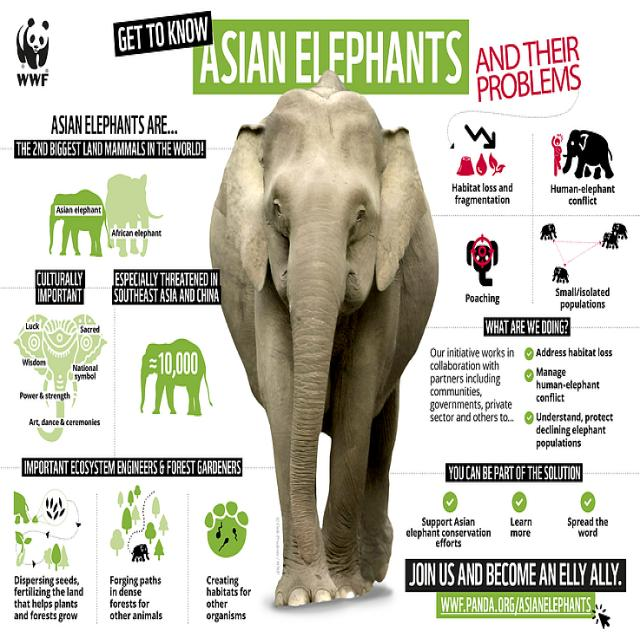Elephant: (208, 88, 437, 603)
